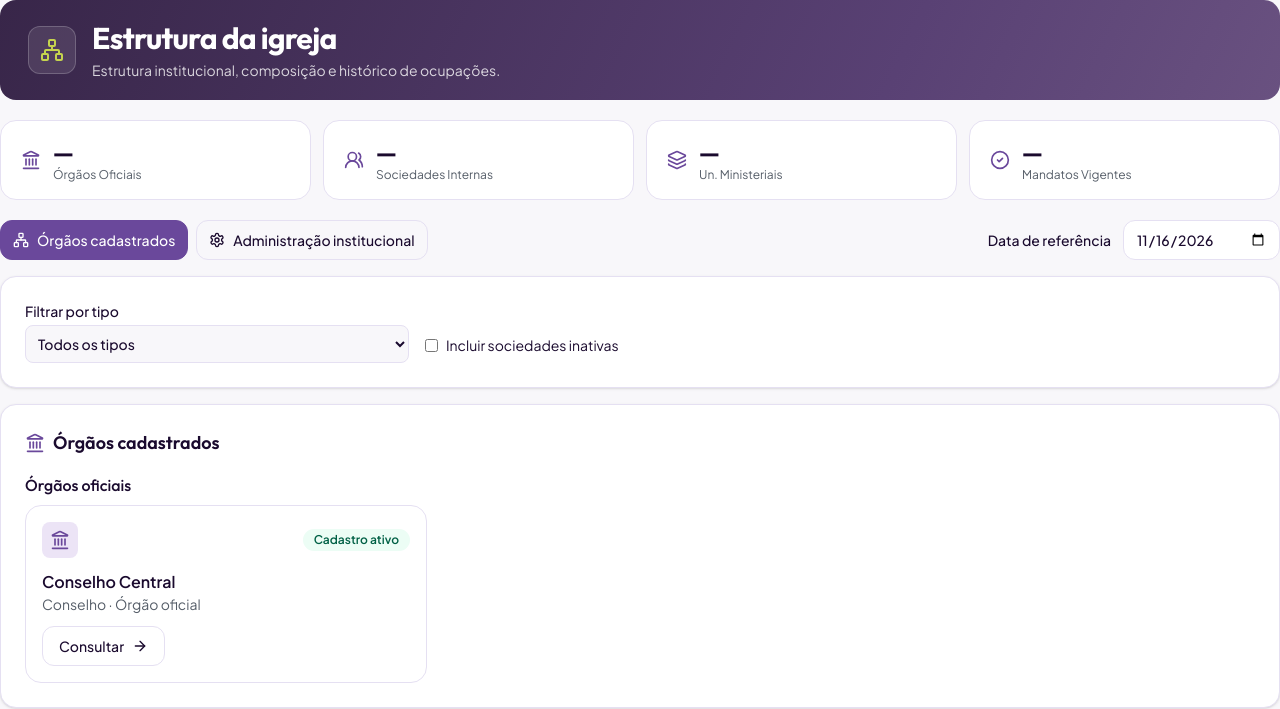
Test: consulta de órgãos › mostra o caminho para registrar mandato na composição do Conselho (autorizado: true)
Click the button "Consultar" at (104, 646), box top-left (42, 626), bottom-right (165, 666)
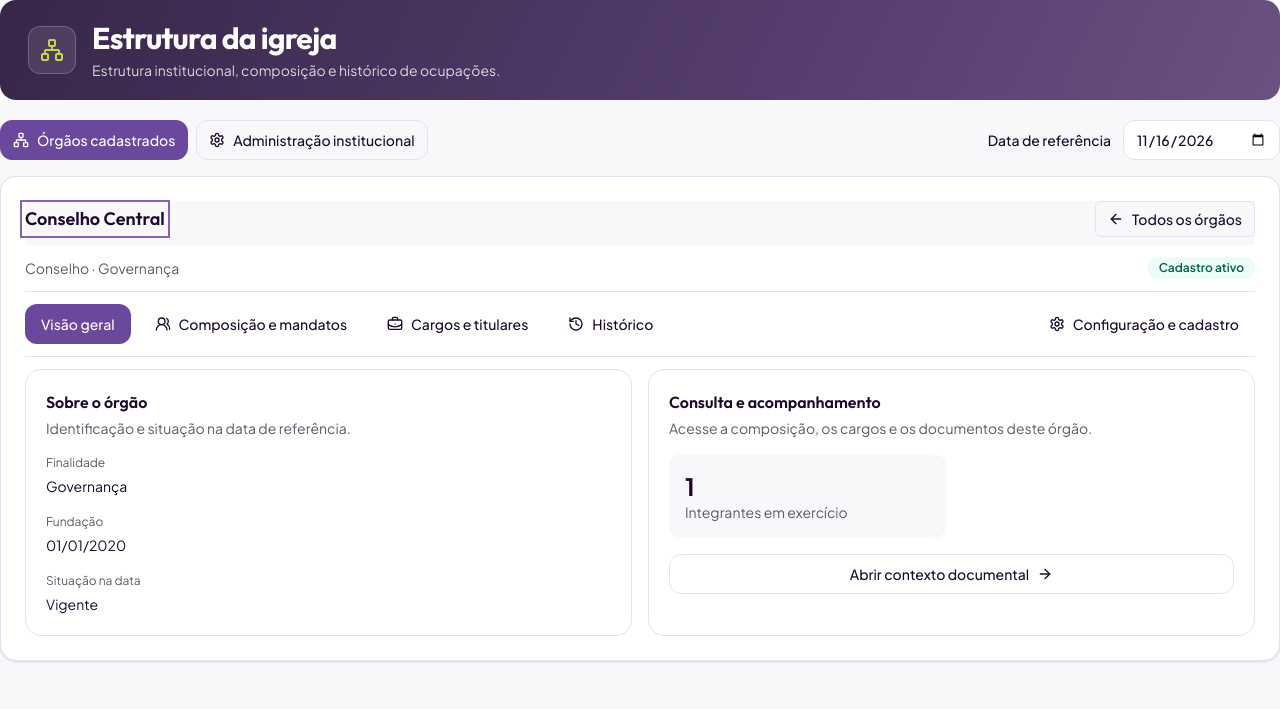
Click the button "Composição e mandatos" at (251, 324), box top-left (138, 304), bottom-right (363, 344)
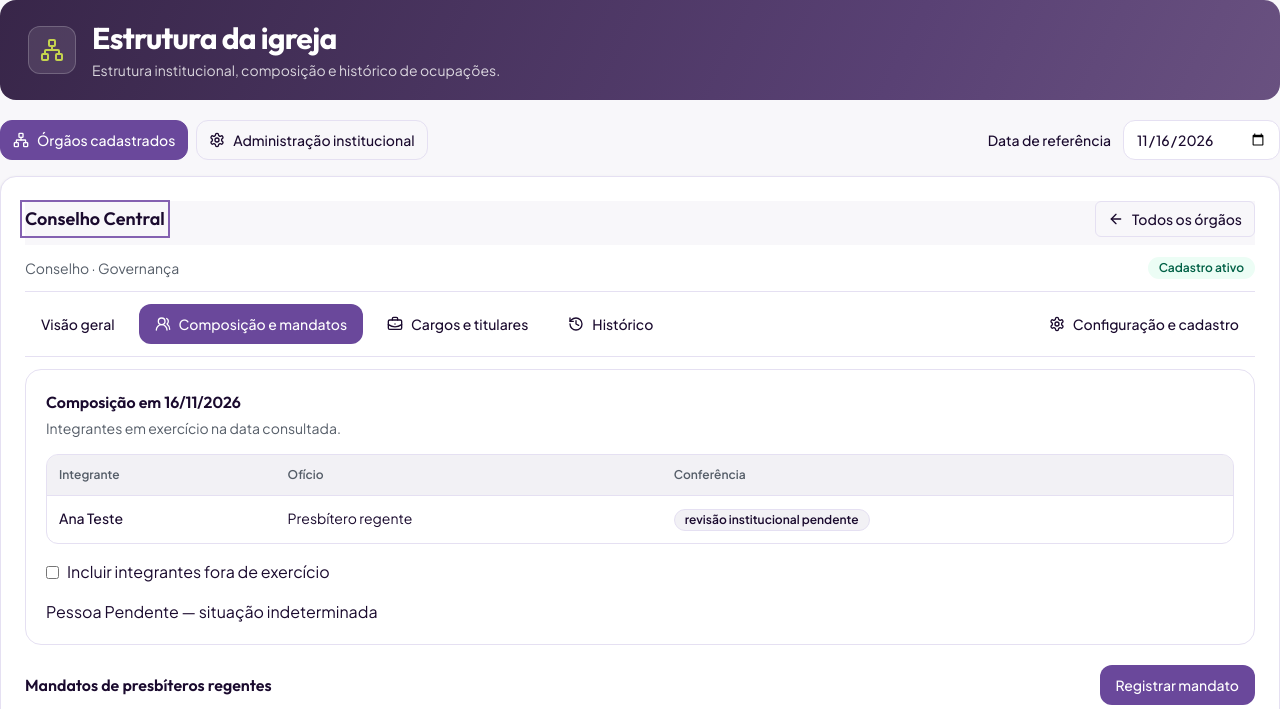
Click the button "Registrar mandato" at (1177, 685), box top-left (1100, 665), bottom-right (1255, 705)
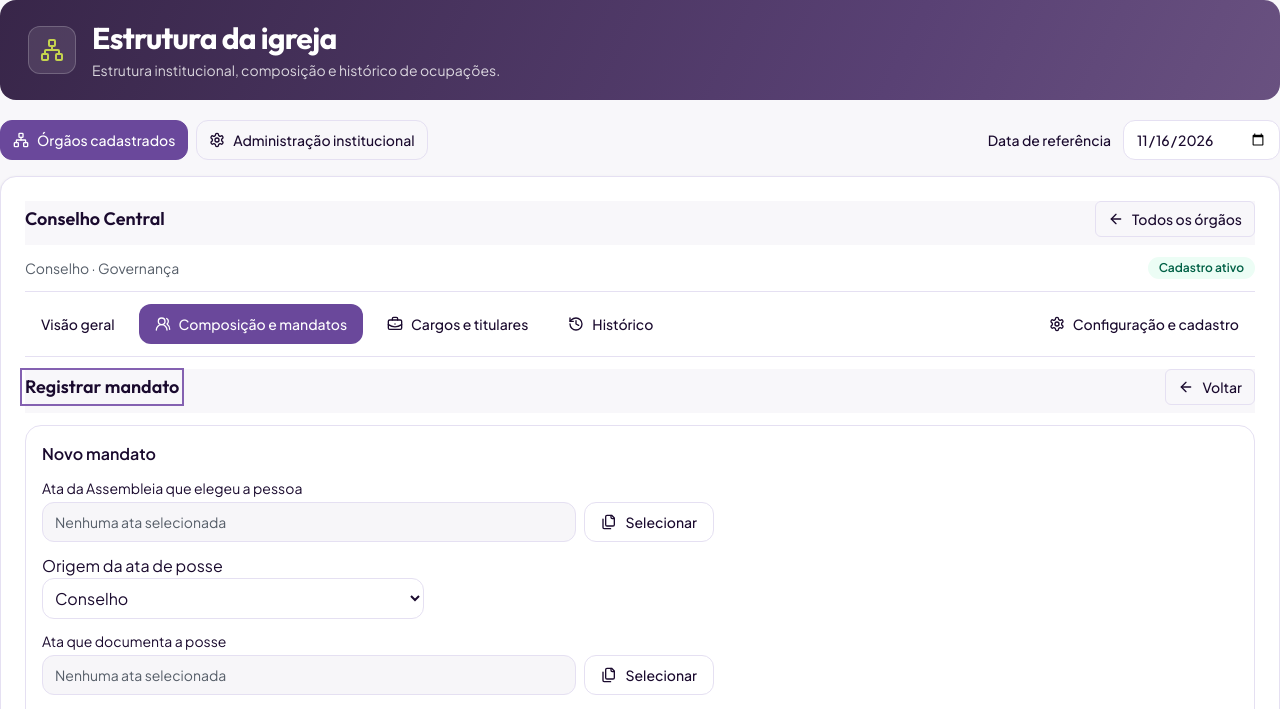
Result: the heading "Registrar mandato" is shown at top-left (25, 373), bottom-right (179, 401)
Result: the field labelled "Ata da Assembleia que elegeu a pessoa" is shown at top-left (42, 502), bottom-right (576, 542)
